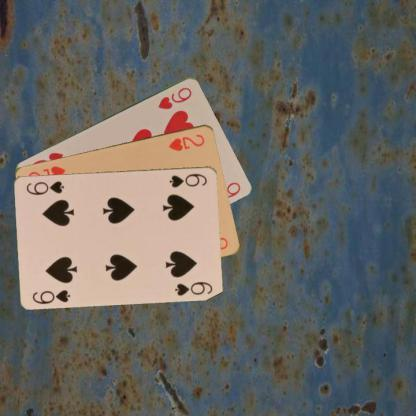2h: (166, 131, 206, 152)
6s: (167, 170, 209, 189), (30, 287, 72, 305)
9h: (155, 84, 193, 110)
